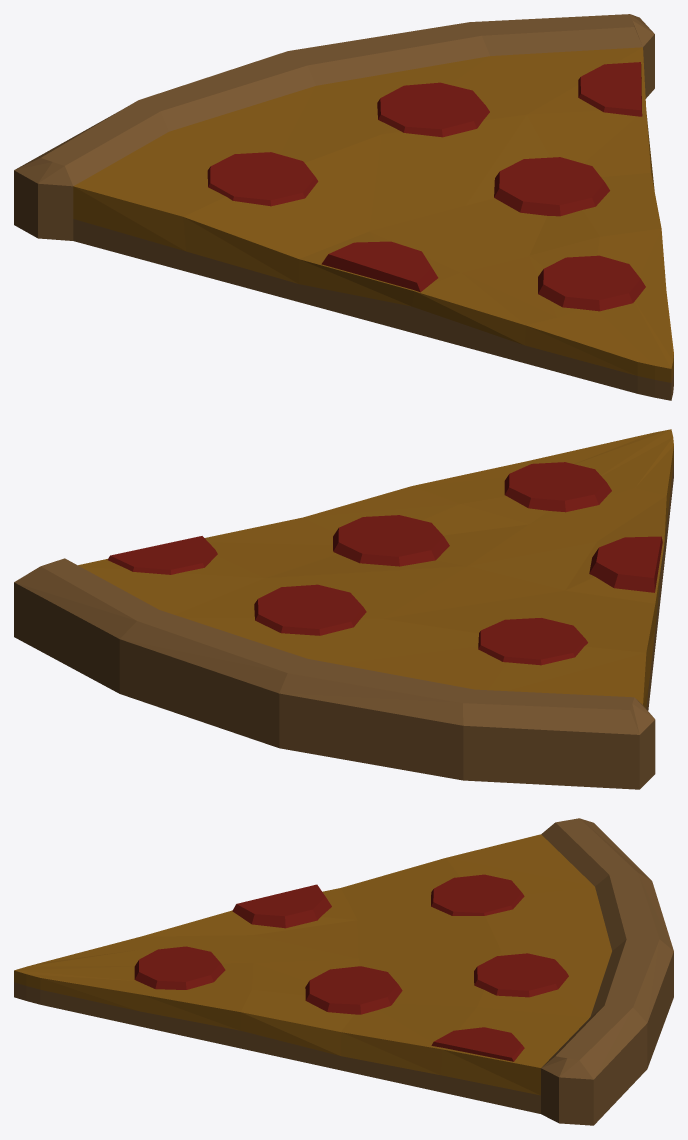
Rendered from pizza-slice.glb.
The picture shows the model from 3 angles, top to bottom: view 1: azimuth 30°, elevation 25°; view 2: azimuth 150°, elevation 25°; view 3: azimuth 270°, elevation 25°; orthographic projection. The views are drawn at different scales.
Parts seen in each view (by area): view 1: Pizza_Slice; view 2: Pizza_Slice; view 3: Pizza_Slice.
Part boxes in pixels (<box>): Pizza_Slice: <box>14,14,673,400</box>; Pizza_Slice: <box>14,429,673,789</box>; Pizza_Slice: <box>14,818,673,1125</box>.
Bounding box in the file's own units: 107 × 11.28 × 116.
